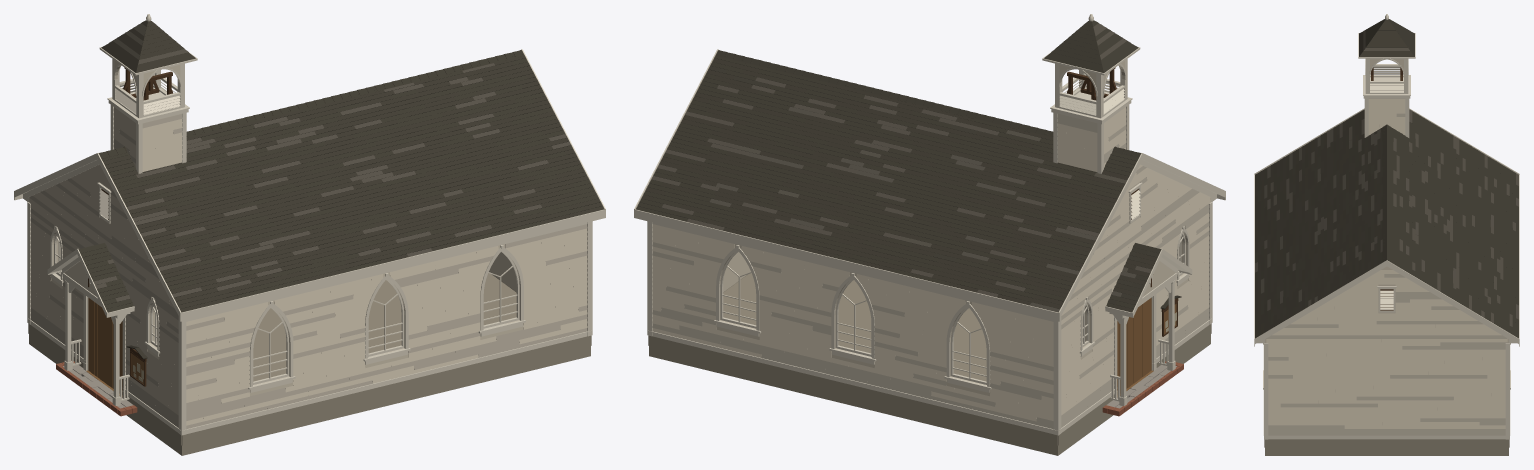
File: SM_Town_Church_Shell.fbx
3 renders of one model, left to right at view 1: azimuth 30°, elevation 25°; view 2: azimuth 150°, elevation 25°; view 3: azimuth 270°, elevation 25°, orthographic. The views are drawn at different scales.
Visible parts, largest first — view 1: SM_Town_Church_Shell; view 2: SM_Town_Church_Shell; view 3: SM_Town_Church_Shell.
Part boxes in pixels (x1,y1,x2,y2): SM_Town_Church_Shell: (14,14,605,455); SM_Town_Church_Shell: (634,14,1225,455); SM_Town_Church_Shell: (1254,14,1519,455).
Size of the model in its own units: 15.47 by 10 by 12.44.
